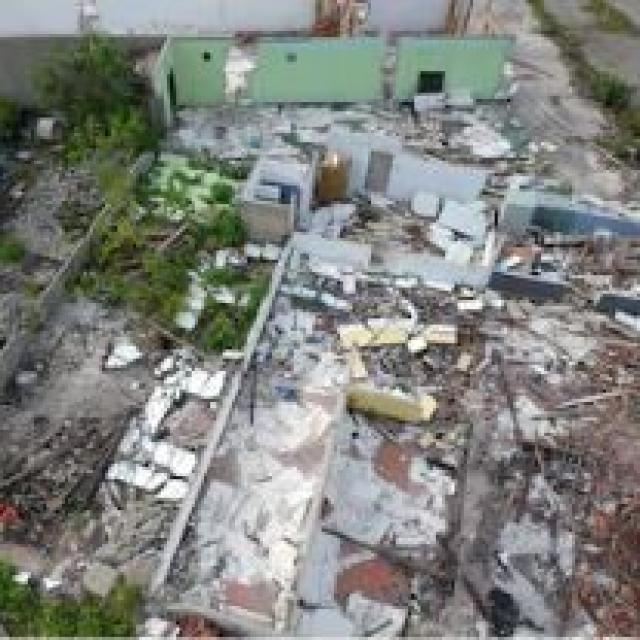collapsed_building: (207, 229, 631, 637)
